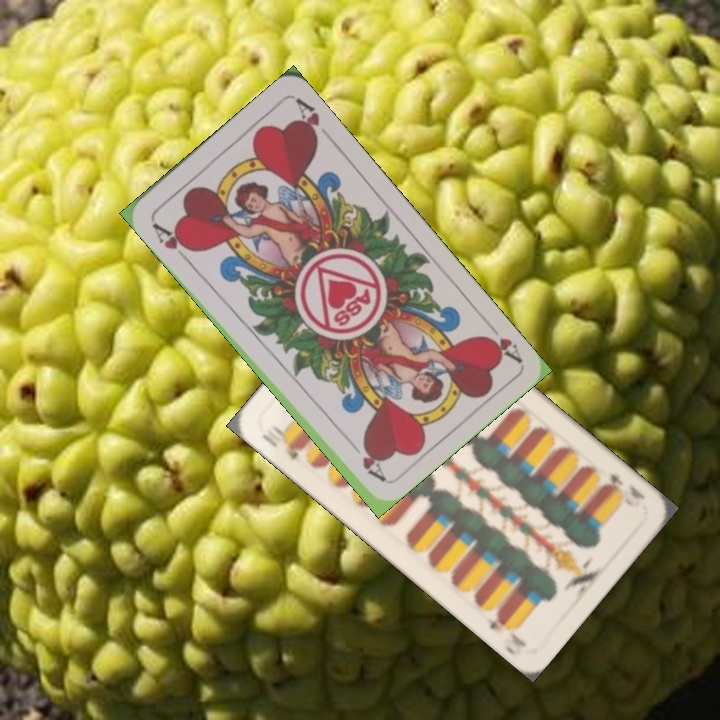E10: (257, 421, 305, 463), (599, 469, 648, 503)
HA: (148, 218, 197, 265), (477, 331, 524, 365)
